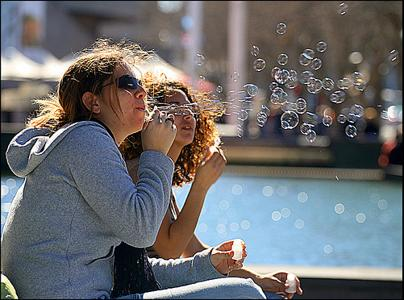person: (1, 42, 299, 300)
